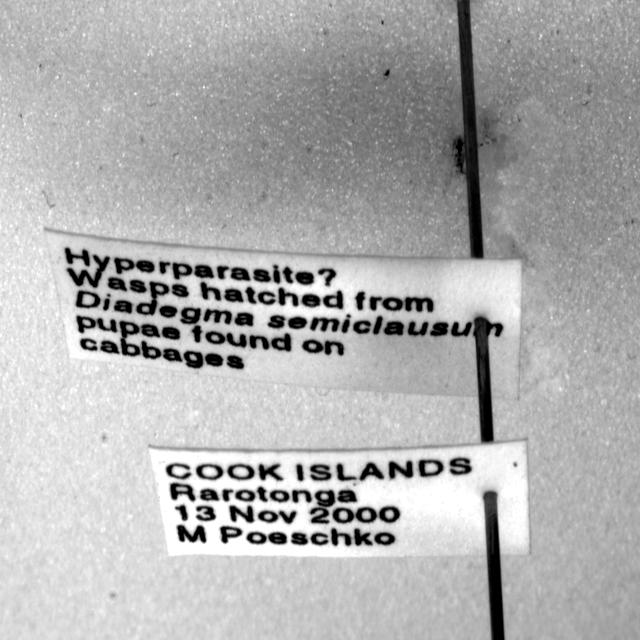typed_label: (45, 231, 521, 398), (150, 441, 530, 557)
